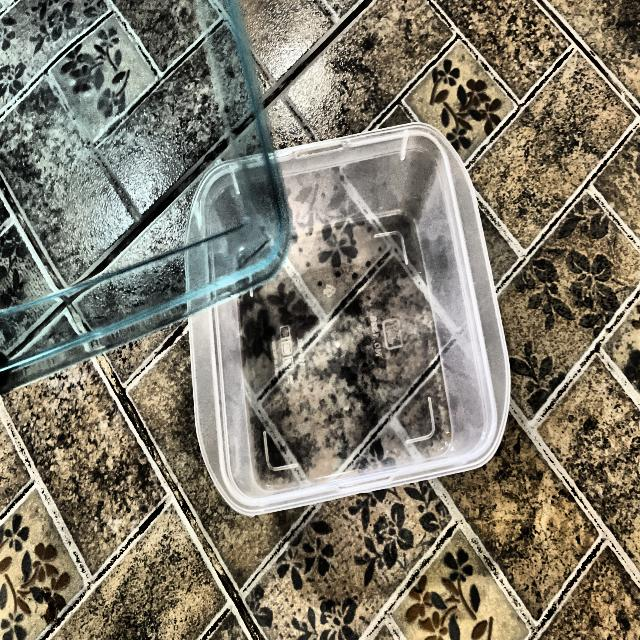plastic container: (9, 21, 482, 526)
